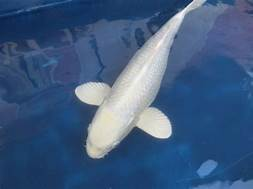white: (75, 1, 209, 160)
